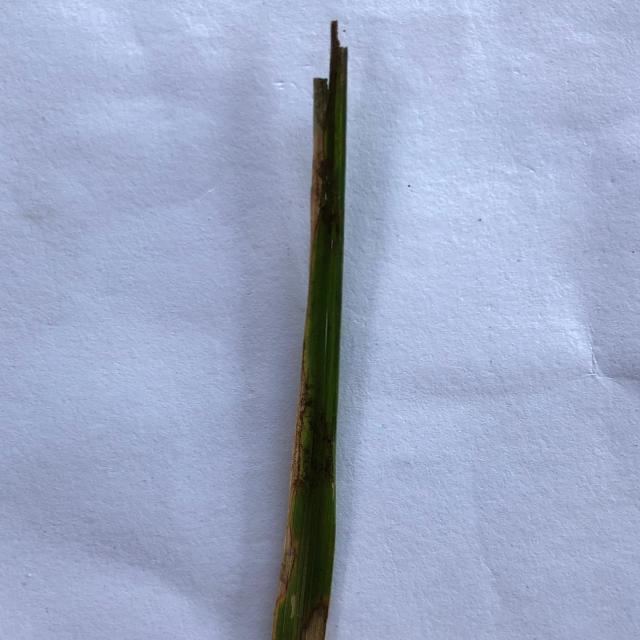Leaf Blight: (272, 351, 306, 640), (309, 131, 326, 281), (300, 589, 331, 640)
